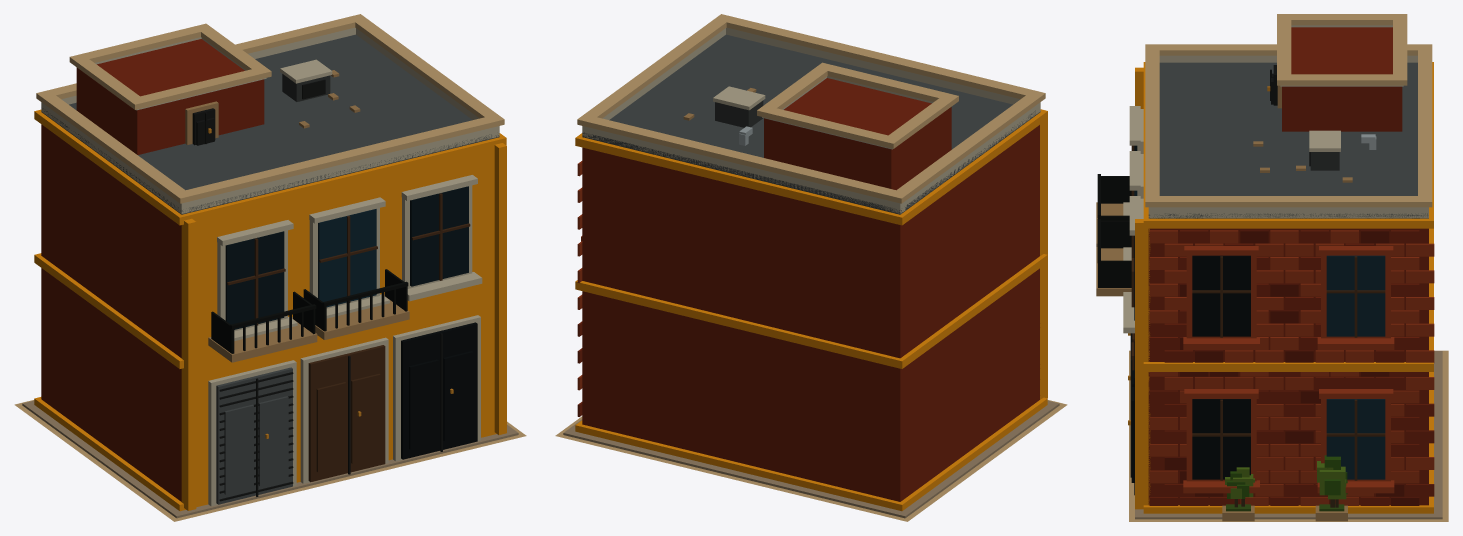
Rendered from SM_Mapa_041.fbx.
The picture shows the model from 3 angles, left to right: view 1: azimuth 30°, elevation 25°; view 2: azimuth 150°, elevation 25°; view 3: azimuth 270°, elevation 25°; orthographic projection.
Visible parts, largest first — view 1: SM_Mapa_041; view 2: SM_Mapa_041; view 3: SM_Mapa_041.
Boxes of the visible parts, x1,y1,x2,y2 form: SM_Mapa_041: [14, 14, 526, 521]; SM_Mapa_041: [555, 14, 1067, 521]; SM_Mapa_041: [1096, 14, 1448, 521].
Size of the model in its own units: 8 by 6.82 by 7.55.
